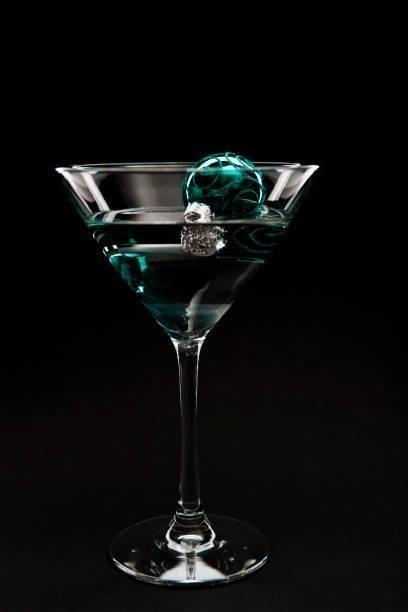glass-wine: (55, 154, 321, 590)
